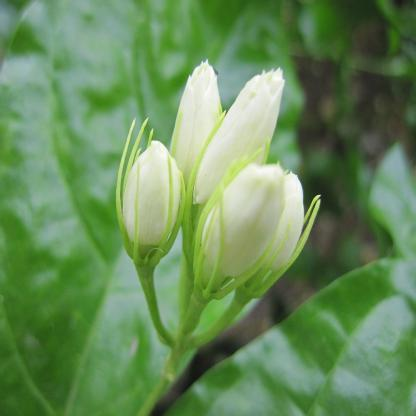Melati: (132, 168, 333, 303), (132, 53, 309, 205), (103, 116, 181, 271)
